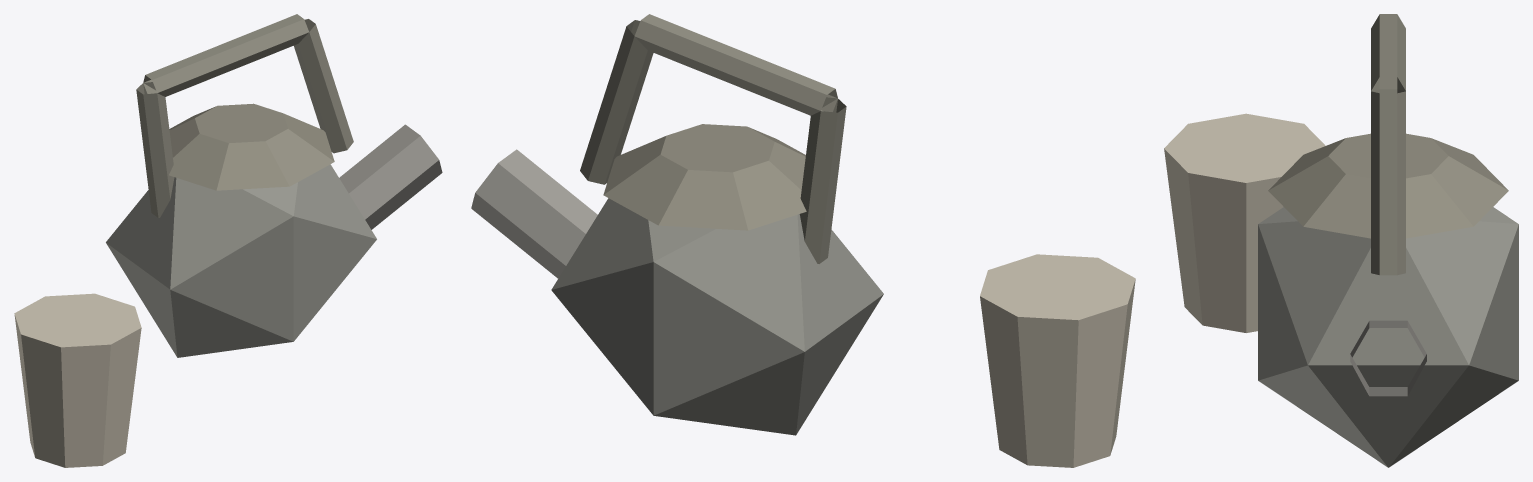
The picture shows the model from 3 angles, left to right: view 1: azimuth 30°, elevation 25°; view 2: azimuth 150°, elevation 25°; view 3: azimuth 270°, elevation 25°; orthographic projection. The views are drawn at different scales.
Parts seen in each view (by area): view 1: P06; view 2: P06; view 3: P06.
Part boxes in pixels (x1,y1,x2,y2): P06: (14,14,442,467); P06: (471,14,1135,467); P06: (1164,14,1518,467).
Size of the model in its own units: 0.6194 by 0.4037 by 0.3241.
